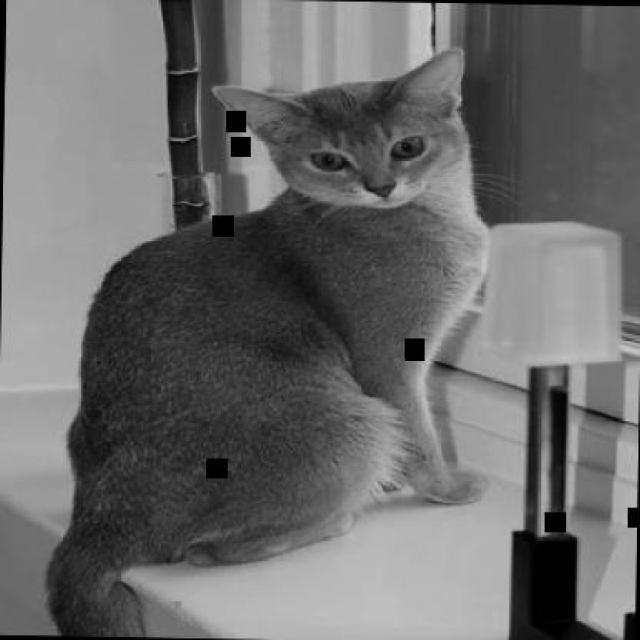cat: (38, 39, 494, 638)
